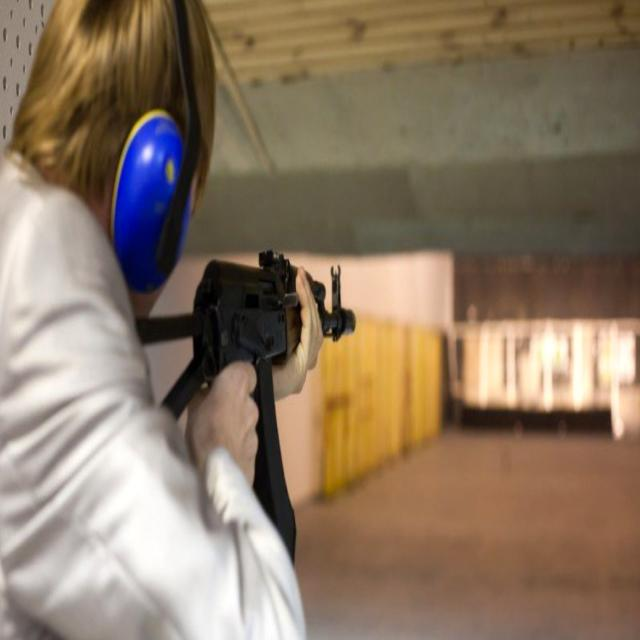Ear-protection: (22, 0, 214, 335)
